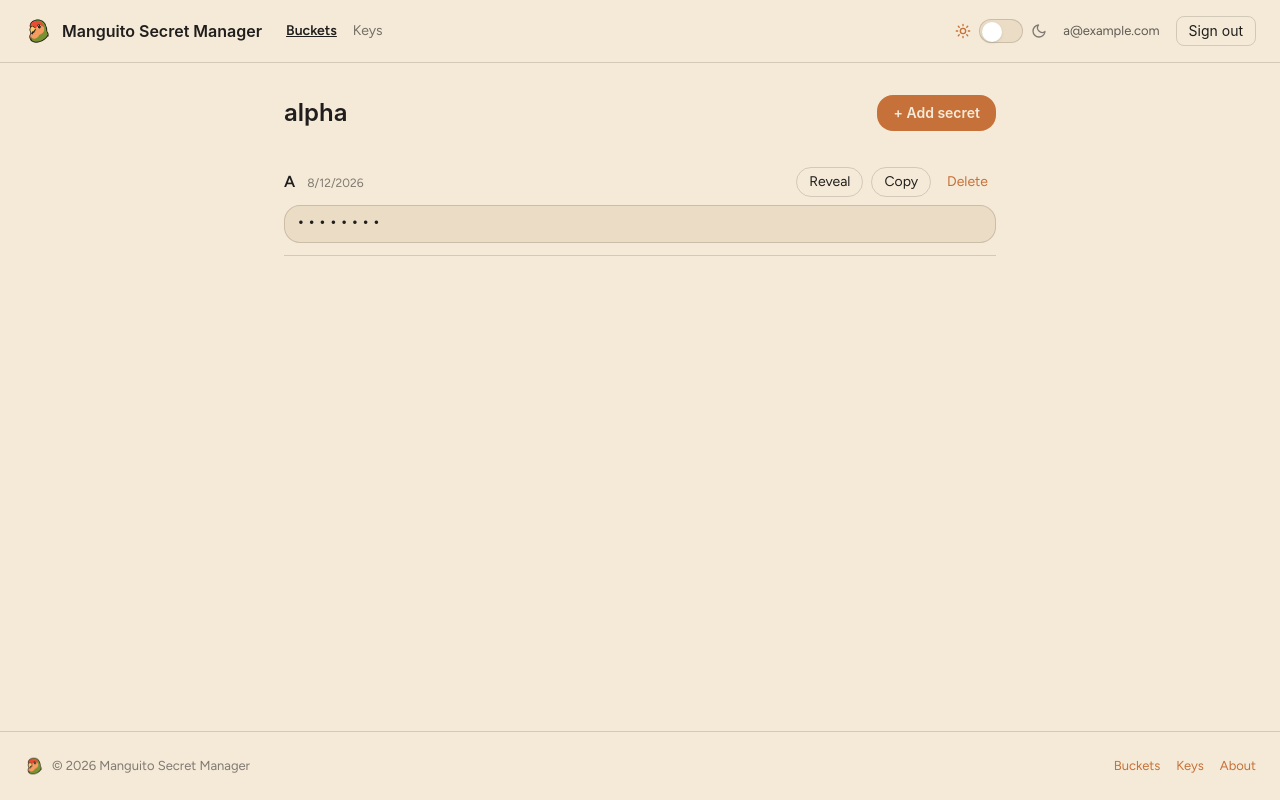
Test: the bucket list learns about a deleted secret › re-enables Delete on a bucket whose last secret was removed
Click the button with aria-label "delete A" at (968, 182), box [939,167,996,197]
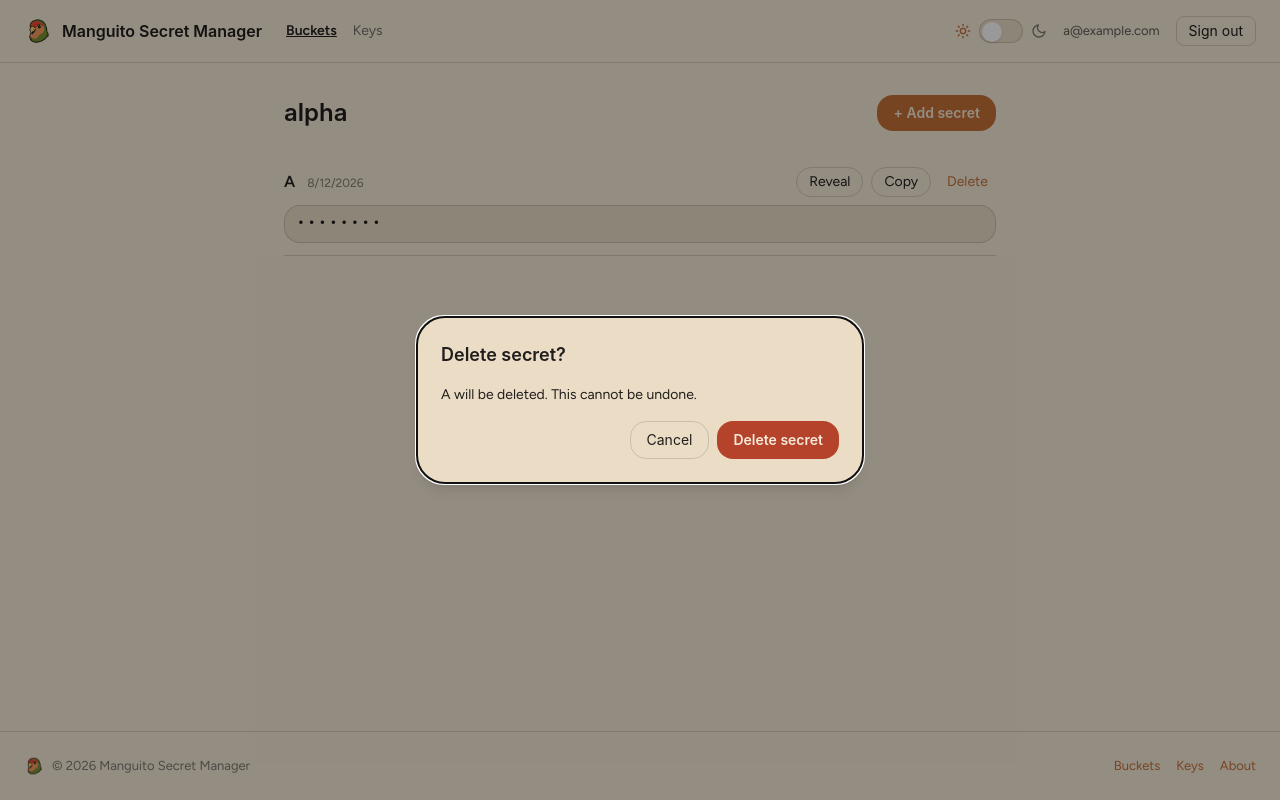
Click the button "Delete secret" at (778, 440), box [718,421,839,459]
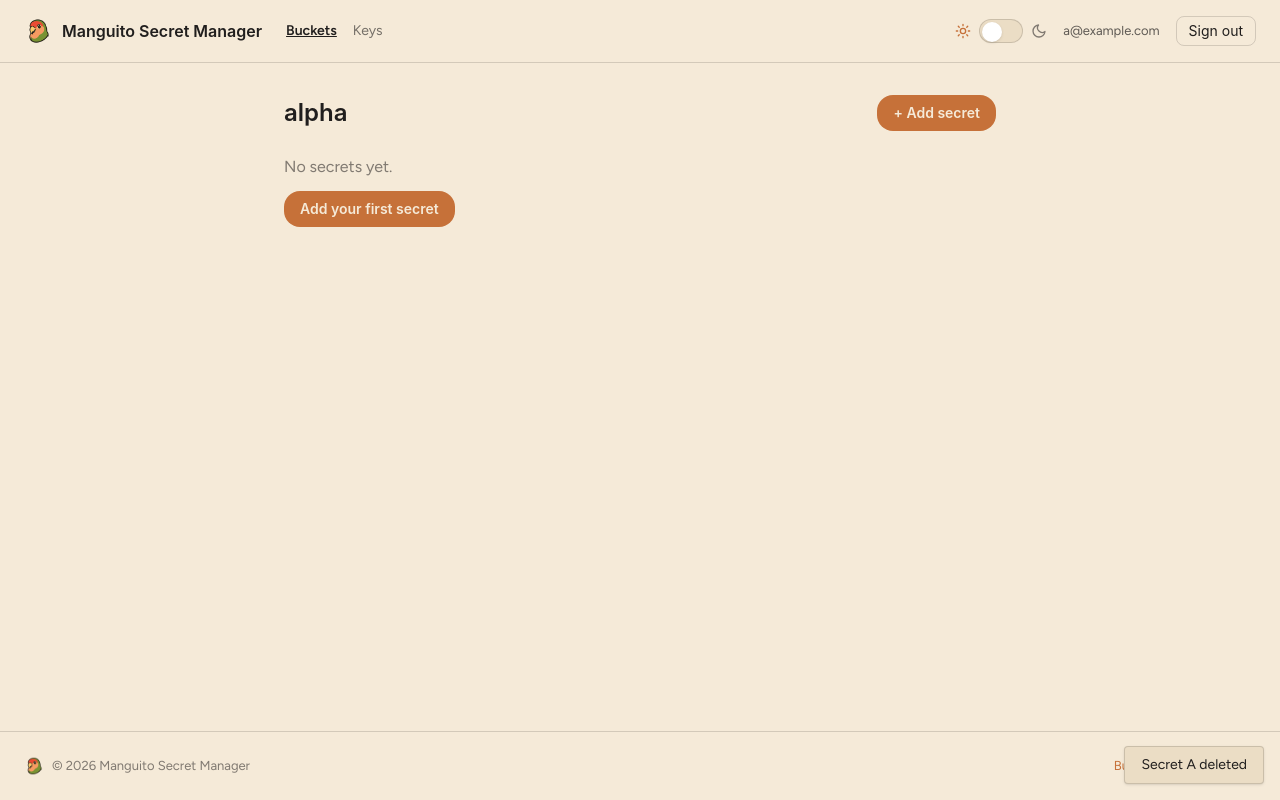
Now the text "No secrets yet." is shown, box [284,155,392,179]
Click the link "Buckets" at (312, 31), box [286,21,337,41]
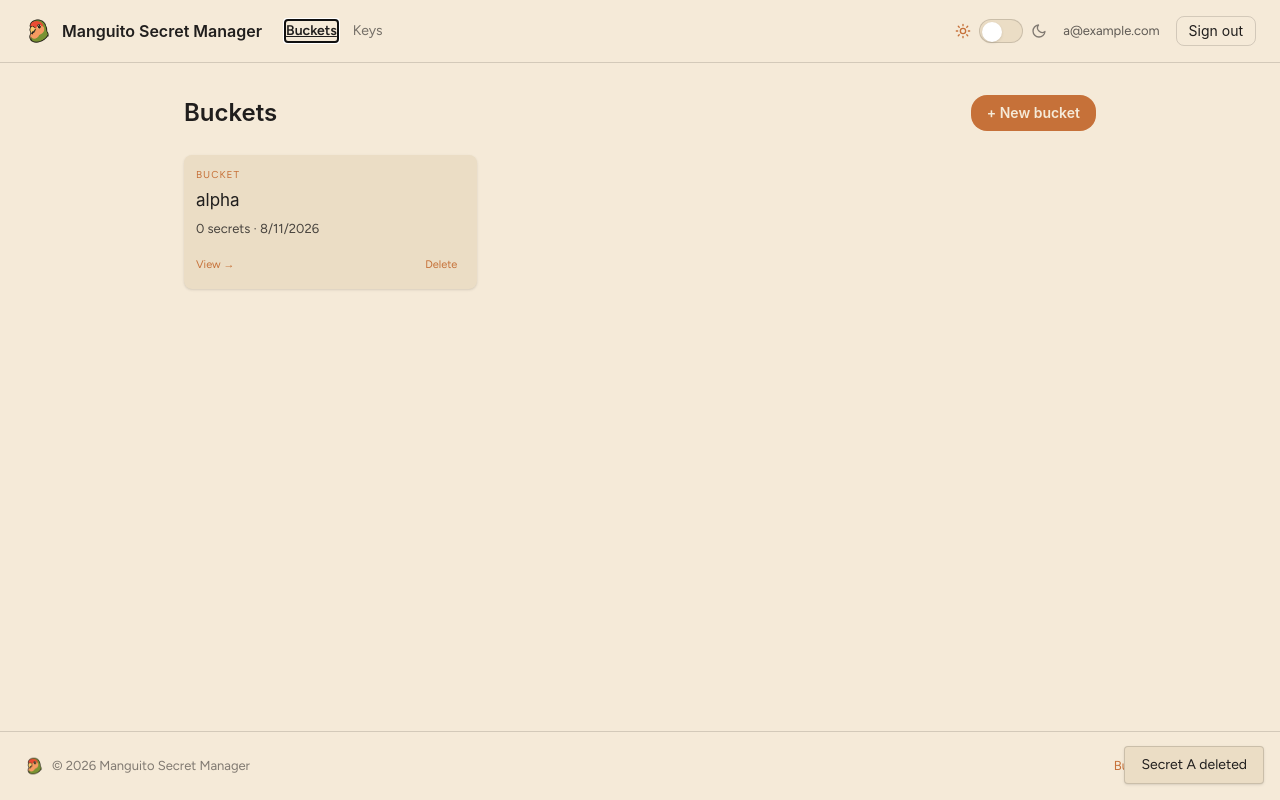
Now the button "Delete" is enabled, box [417,253,465,277]
